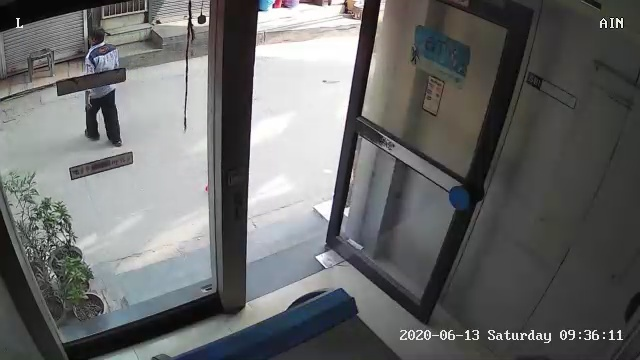open: (185, 7, 525, 332)
